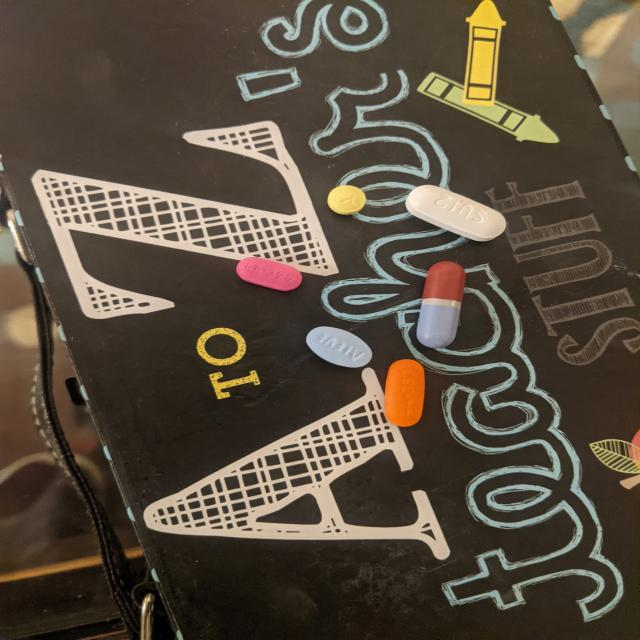non-organic waste: (405, 184, 507, 242), (416, 260, 467, 349), (305, 325, 374, 369), (383, 358, 426, 428), (236, 256, 304, 292), (327, 184, 367, 216)
